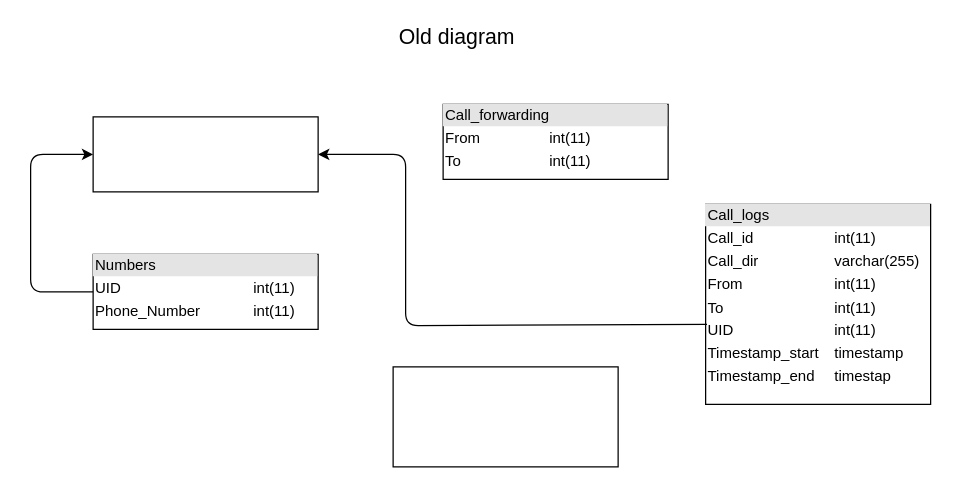
Image size: 953x489. Some labels were removed from this diagram. Here are the shapes that lost their labels. From the top down, the centre of each, then its label:
At point 205,154: "Account UID int(11) Name varchar(255)".
At point 505,416: "Numbers ID int(11) Money double Description varchar(255)".
